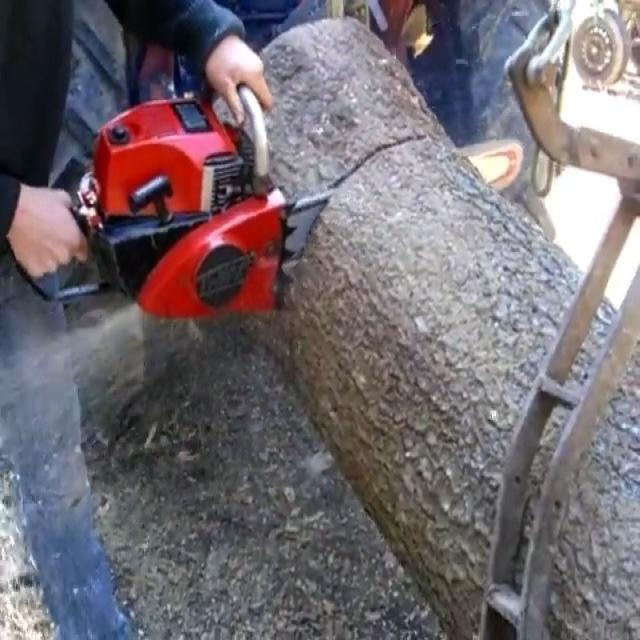Chainsaw: (8, 84, 527, 323)
